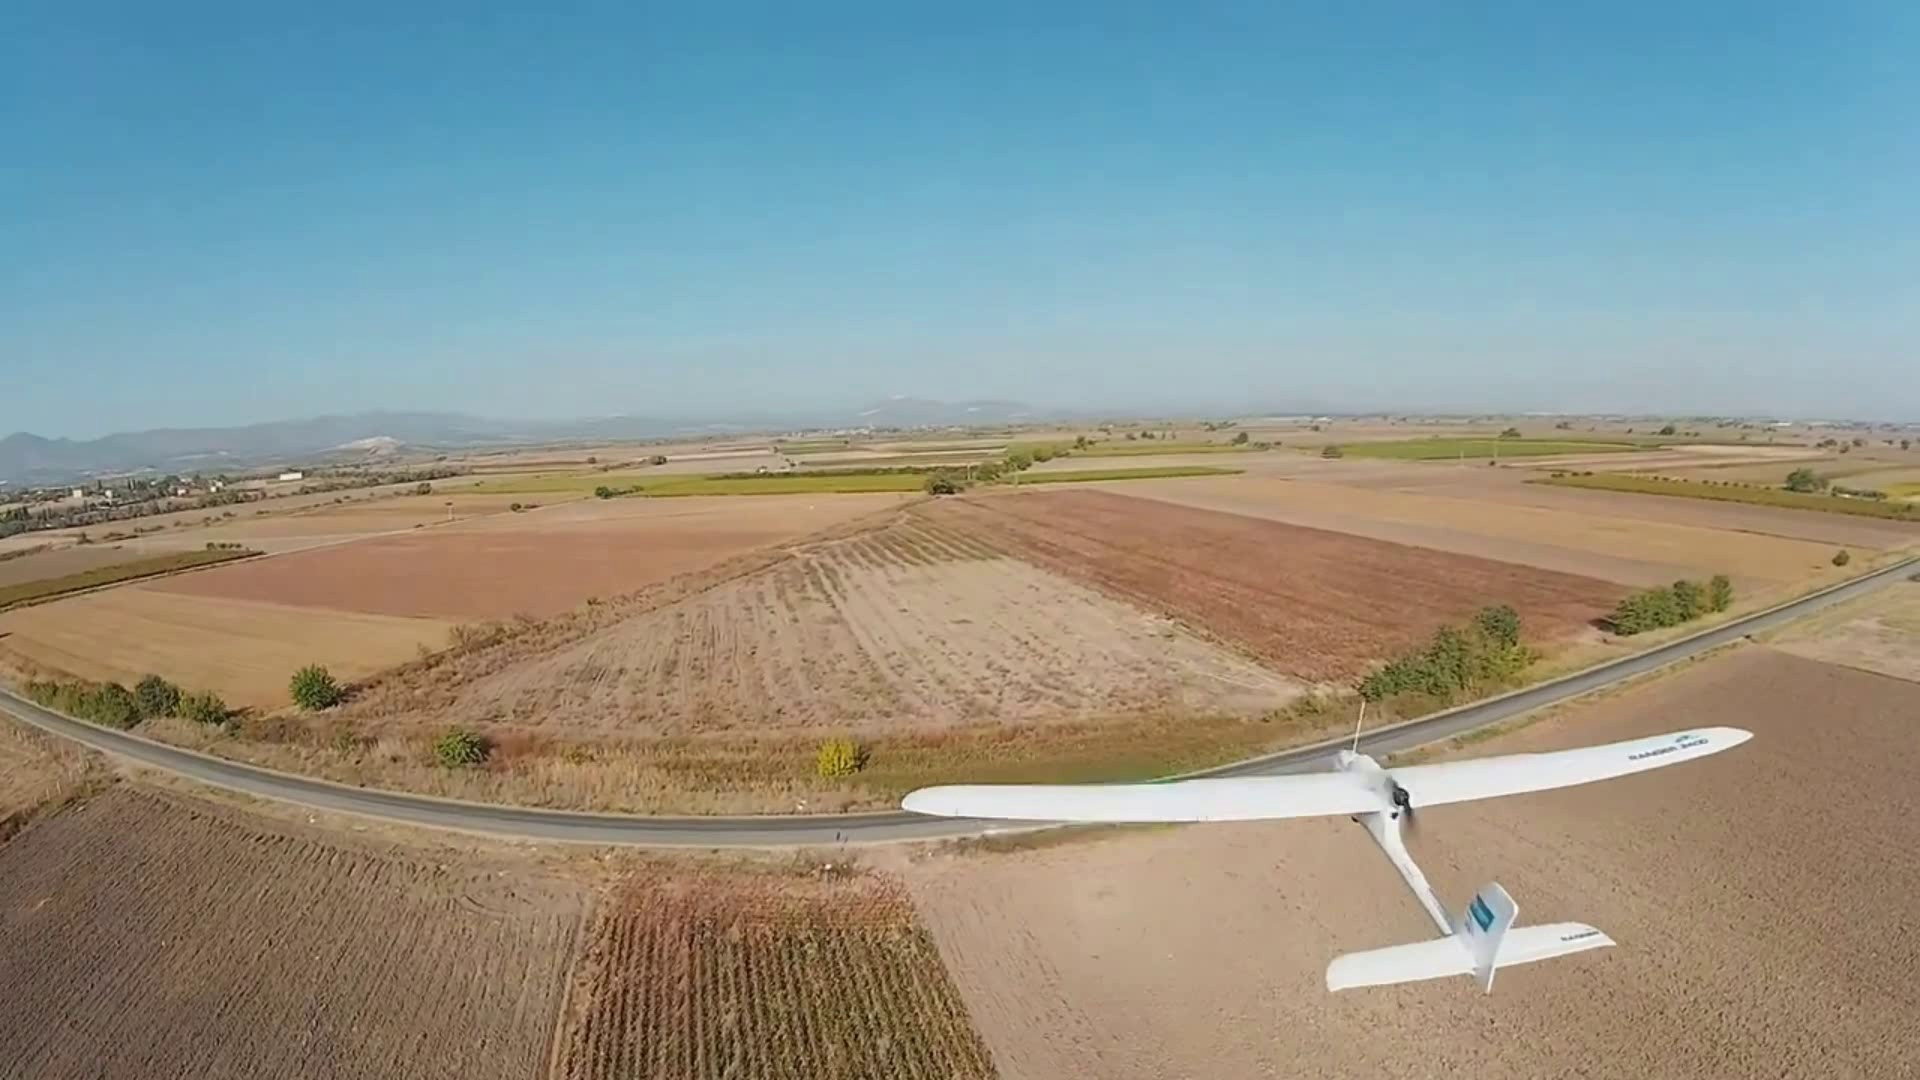airplane: (880, 537, 1917, 990)
